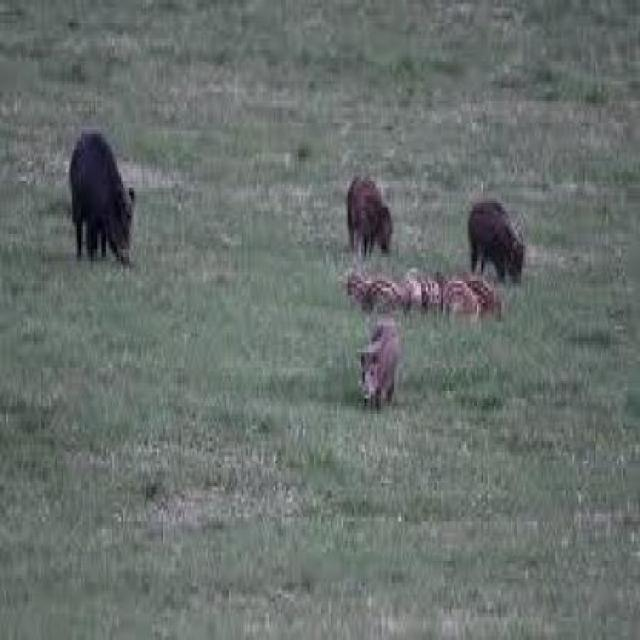wildboar: (67, 124, 138, 271), (340, 263, 506, 322), (467, 192, 528, 285), (357, 318, 400, 422), (344, 171, 391, 260)
